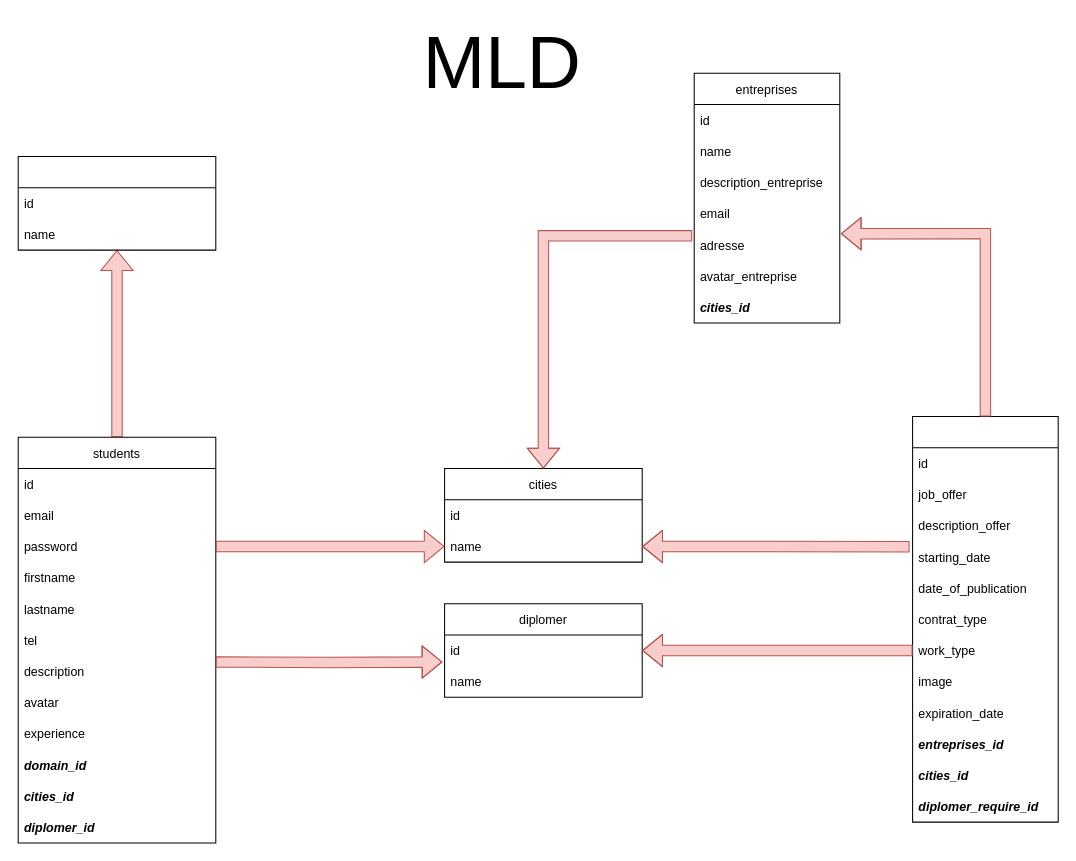
Some shapes in this 1076 by 861 pixel diagram are drawn without their labels. The box of each missing label's shape, as (x1, y1, x2, y2) in pixels:
offers: (912, 415, 1058, 822)
profession: (17, 155, 216, 250)
